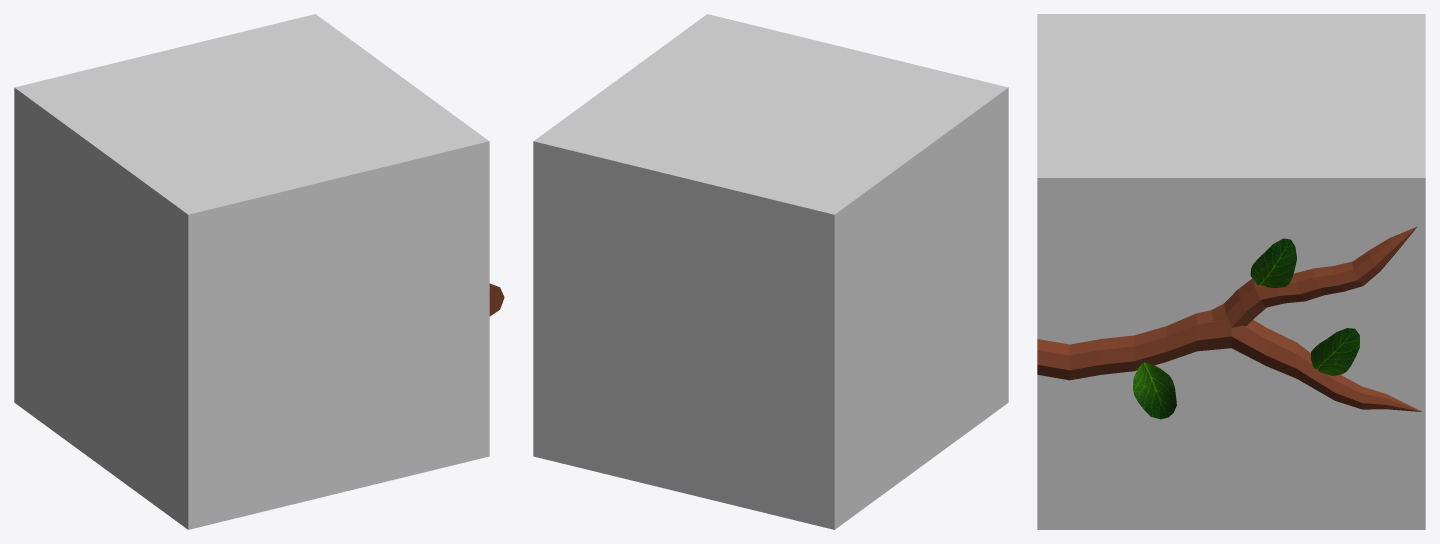
Rendered from branch_Y.fbx.
3 views of the same model, side by side, from view 1: azimuth 30°, elevation 25°; view 2: azimuth 150°, elevation 25°; view 3: azimuth 270°, elevation 25° (orthographic). The views are drawn at different scales.
Parts seen in each view (by area): view 1: Cube; view 2: Cube; view 3: Cube, Cylinder, Cylinder.001, Plane, Plane.001, Plane.002.
Boxes of the visible parts, x1,y1,x2,y2 form: Cube: (14, 14, 489, 529); Cube: (533, 14, 1008, 529); Cube: (1037, 14, 1425, 529); Cylinder: (1037, 310, 1422, 411); Cylinder.001: (1211, 227, 1416, 328); Plane: (1133, 362, 1176, 419); Plane.001: (1311, 328, 1359, 375); Plane.002: (1250, 238, 1296, 287).
Size of the model in its own units: 217 by 200 by 200.
